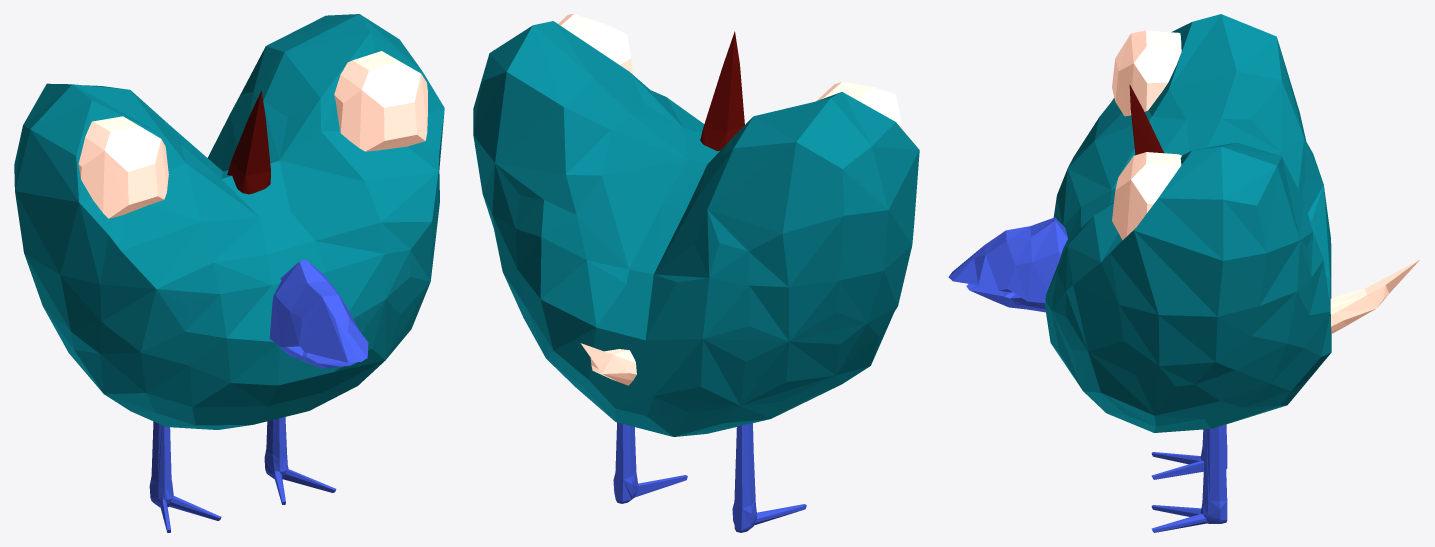
File: species_03_rs.glb
The picture shows the model from 3 angles, left to right: view 1: azimuth 30°, elevation 25°; view 2: azimuth 150°, elevation 25°; view 3: azimuth 270°, elevation 25°; orthographic projection. The views are drawn at different scales.
Visible parts, largest first — view 1: Quad Sphere, Sphere.003, Sphere.002, Sphere, Cone.001, Sphere.004, Sphere.005, Sphere.001; view 2: Quad Sphere, Cone.001, Sphere.004, Sphere.005, Sphere.003, Sphere.002, Cone; view 3: Quad Sphere, Sphere, Sphere.002, Sphere.003, Sphere.005, Cone, Cone.001, Sphere.004, Sphere.001.
Part boxes in pixels (box(x1,y1,x2,y2)): Quad Sphere: box(14, 14, 444, 429); Sphere.003: box(334, 51, 427, 151); Sphere.002: box(78, 116, 168, 218); Sphere: box(269, 259, 368, 362); Cone.001: box(227, 91, 270, 194); Sphere.004: box(149, 421, 221, 532); Sphere.005: box(264, 417, 336, 504); Sphere.001: box(275, 343, 356, 368); Quad Sphere: box(473, 21, 919, 436); Cone.001: box(700, 31, 744, 151); Sphere.004: box(732, 423, 806, 532); Sphere.005: box(613, 422, 687, 503); Sphere.003: box(558, 14, 632, 74); Sphere.002: box(816, 82, 902, 129); Cone: box(580, 343, 636, 385); Quad Sphere: box(1044, 14, 1331, 432); Sphere: box(948, 217, 1067, 303); Sphere.002: box(1112, 30, 1181, 116); Sphere.003: box(1112, 152, 1181, 240); Sphere.005: box(1151, 425, 1227, 532); Cone: box(1330, 259, 1419, 333); Cone.001: box(1129, 84, 1163, 155); Sphere.004: box(1151, 424, 1227, 479); Sphere.001: box(966, 284, 1045, 312).
Size of the model in its own units: 5.73 by 5.99 by 6.18.
